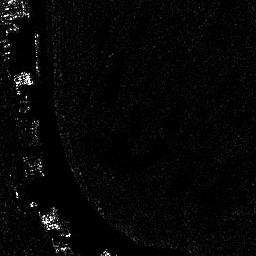ship: (32, 32, 41, 72)
